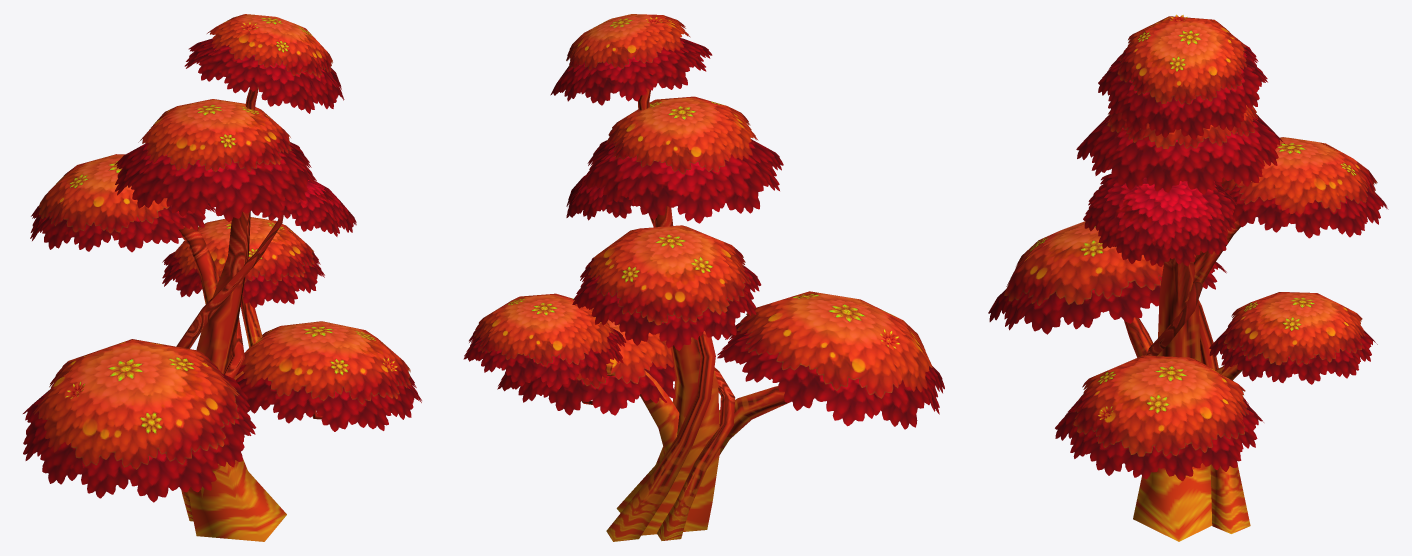
File: Red_Tree_08a.FBX
The picture shows the model from 3 angles, left to right: view 1: azimuth 30°, elevation 25°; view 2: azimuth 150°, elevation 25°; view 3: azimuth 270°, elevation 25°; orthographic projection.
Visible parts, largest first — view 1: Red_Tree_08a; view 2: Red_Tree_08a; view 3: Red_Tree_08a.
Part boxes in pixels (bbox=[...]): Red_Tree_08a: bbox=[23, 14, 421, 541]; Red_Tree_08a: bbox=[463, 14, 944, 541]; Red_Tree_08a: bbox=[988, 14, 1388, 541].
Bounding box in the file's own units: 475 × 546 × 408.
